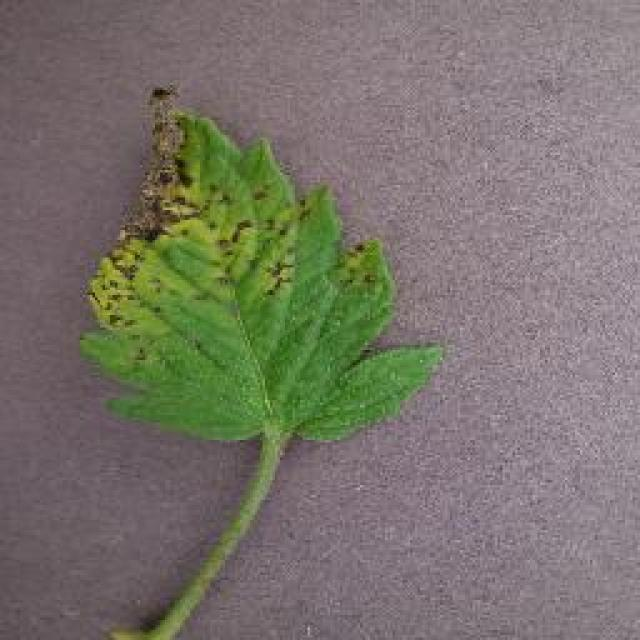Tomato target spot leaf: (75, 85, 437, 450)
